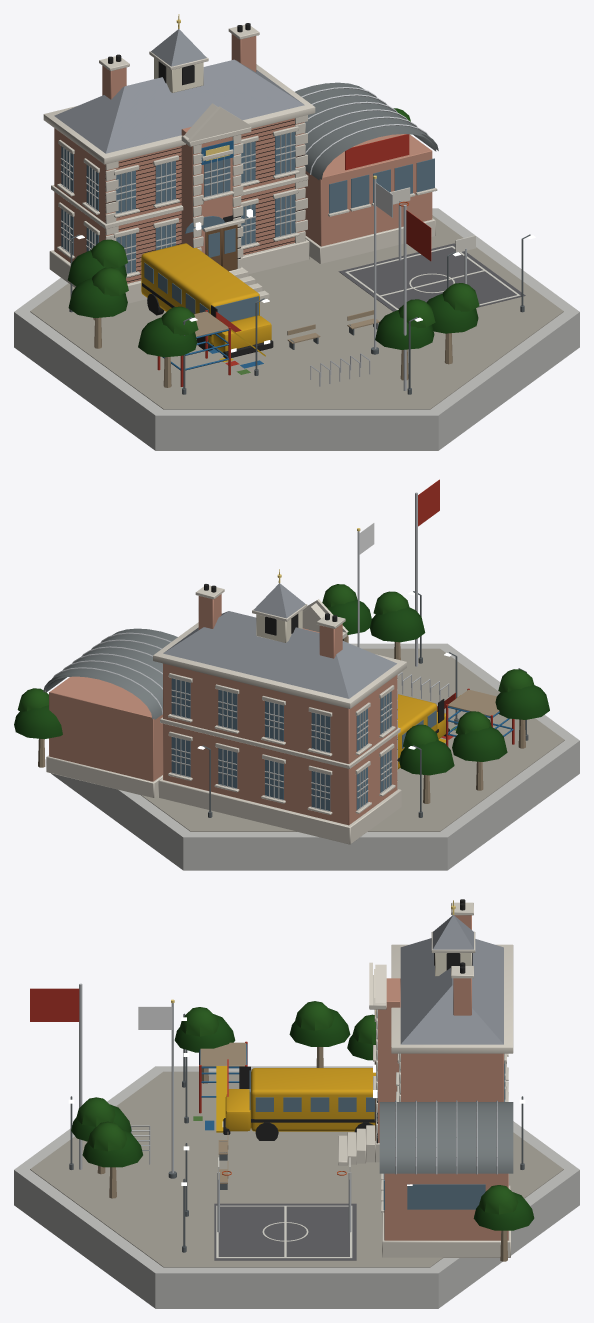
The model's file is school_us.glb.
3 views of the same model, one above another, from view 1: azimuth 30°, elevation 25°; view 2: azimuth 150°, elevation 25°; view 3: azimuth 270°, elevation 25° (orthographic). The views are drawn at different scales.
Visible parts, largest first — view 1: pavers, wall_concrete, brick, stone, roof_slate, glass, paint, leaf, asphalt, dark, metal, wood (+2 smaller); view 2: wall_concrete, brick, stone, pavers, leaf, roof_slate, glass, paint, metal, wood, steel_dark, plaster (+1 smaller); view 3: pavers, wall_concrete, brick, paint, leaf, roof_slate, stone, asphalt, glass, metal, wood, dark (+2 smaller).
Boxes of the visible parts, left/top/right/bottom form: pavers: left=30, top=215, right=563, bottom=409; wall_concrete: left=14, top=82, right=579, bottom=450; brick: left=54, top=34, right=432, bottom=283; stone: left=43, top=24, right=437, bottom=303; roof_slate: left=54, top=29, right=304, bottom=153; glass: left=61, top=132, right=434, bottom=321; paint: left=141, top=134, right=520, bottom=386; leaf: left=67, top=108, right=479, bottom=357; asphalt: left=338, top=243, right=525, bottom=311; dark: left=105, top=23, right=305, bottom=358; metal: left=301, top=87, right=466, bottom=390; wood: left=93, top=224, right=452, bottom=387; wall_concrete: left=43, top=628, right=579, bottom=870; brick: left=49, top=594, right=397, bottom=825; stone: left=46, top=585, right=406, bottom=844; pavers: left=141, top=648, right=564, bottom=831; leaf: left=14, top=584, right=549, bottom=775; roof_slate: left=163, top=583, right=396, bottom=698; glass: left=171, top=678, right=436, bottom=811; paint: left=397, top=479, right=514, bottom=768; metal: left=52, top=492, right=449, bottom=714; wood: left=38, top=635, right=525, bottom=803; steel_dark: left=202, top=591, right=528, bottom=817; plaster: left=256, top=610, right=302, bottom=642; pavers: left=30, top=1071, right=563, bottom=1267; wall_concrete: left=14, top=1063, right=579, bottom=1308; brick: left=377, top=915, right=508, bottom=1240; paint: left=30, top=988, right=375, bottom=1258; leaf: left=71, top=1001, right=534, bottom=1230; roof_slate: left=400, top=915, right=503, bottom=1044; stone: left=338, top=902, right=513, bottom=1257; asphalt: left=214, top=1203, right=356, bottom=1260; glass: left=249, top=1063, right=504, bottom=1210; metal: left=79, top=983, right=497, bottom=1232; wood: left=97, top=1042, right=507, bottom=1261; dark: left=223, top=899, right=472, bottom=1143.
Size of the model in its own units: 21.48 by 13.7 by 24.6.
